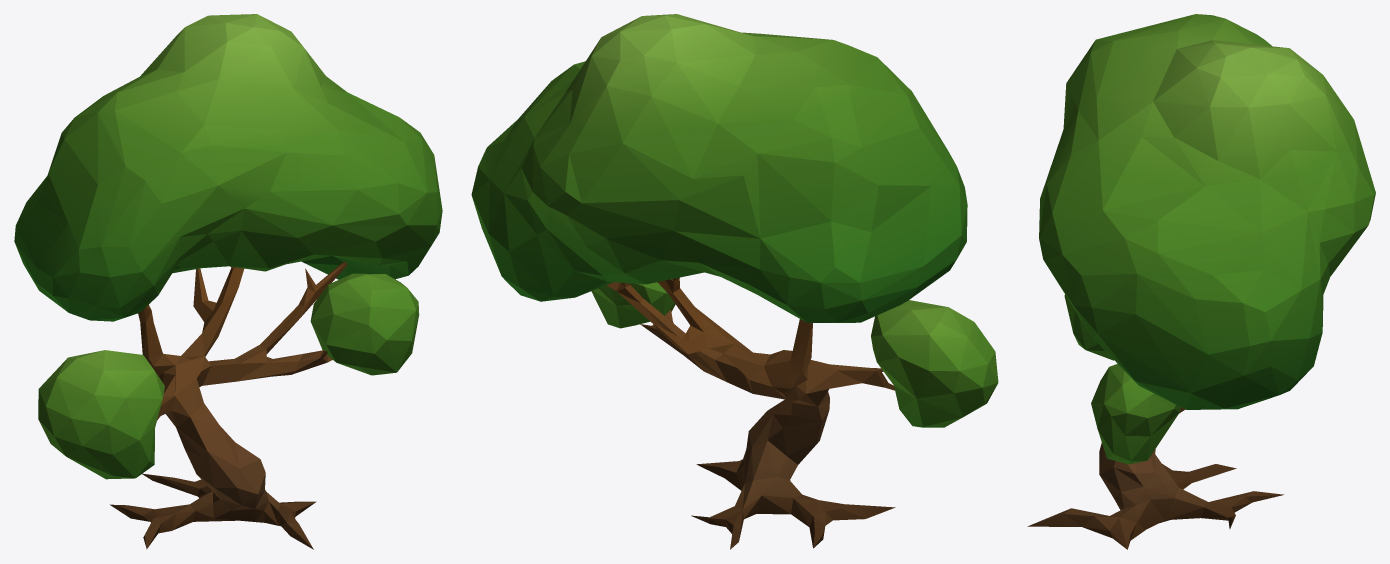
File: Tree_02.fbx
The picture shows the model from 3 angles, left to right: view 1: azimuth 30°, elevation 25°; view 2: azimuth 150°, elevation 25°; view 3: azimuth 270°, elevation 25°; orthographic projection. The views are drawn at different scales.
Visible parts, largest first — view 1: Tree_02; view 2: Tree_02; view 3: Tree_02.
Boxes of the visible parts, x1,y1,x2,y2 form: Tree_02: (14, 14, 442, 549); Tree_02: (471, 14, 998, 549); Tree_02: (1027, 14, 1375, 549).
Bounding box in the file's own units: 754 × 796 × 508.
